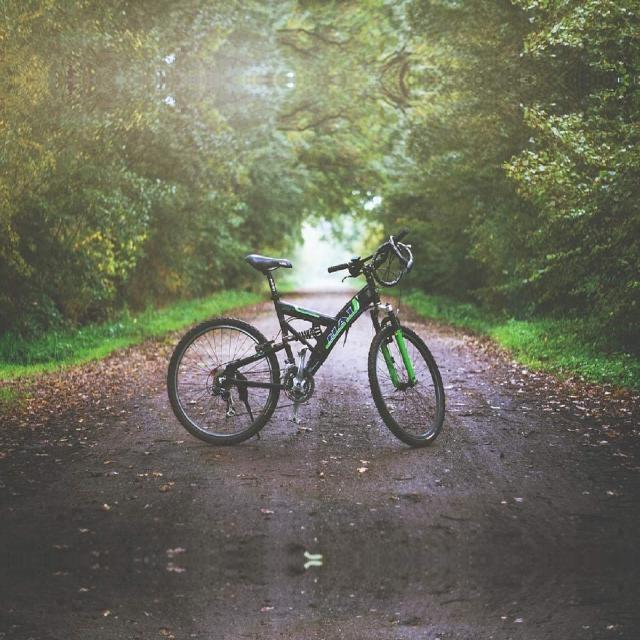obstacle: (162, 229, 456, 455)
